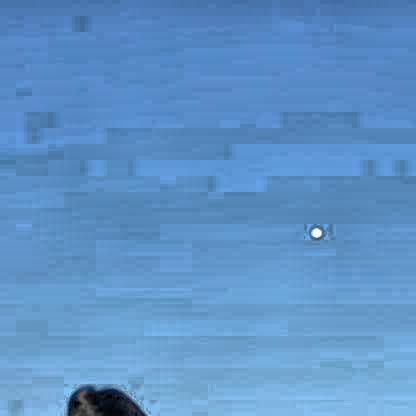golfball: (306, 222, 321, 237)
